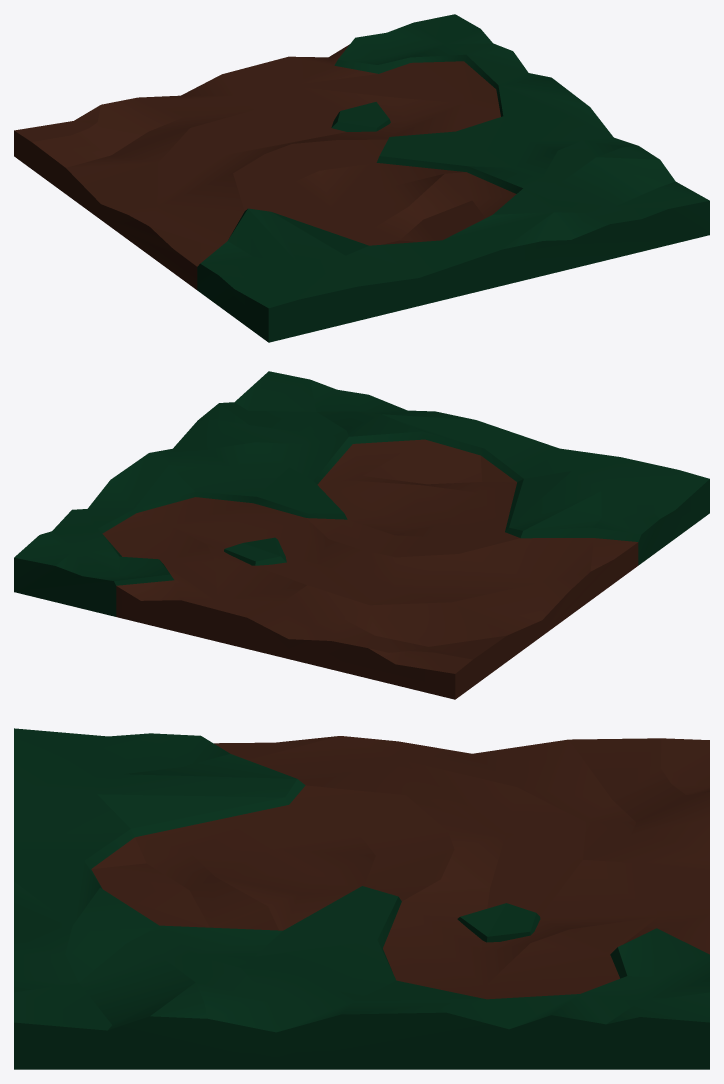
Rendered from Ground_Corner_Internal_RB.fbx.
The picture shows the model from 3 angles, top to bottom: view 1: azimuth 30°, elevation 25°; view 2: azimuth 150°, elevation 25°; view 3: azimuth 270°, elevation 25°; orthographic projection. The views are drawn at different scales.
Visible parts, largest first — view 1: Ground_Corner_Internal_RB; view 2: Ground_Corner_Internal_RB; view 3: Ground_Corner_Internal_RB.
Part boxes in pixels (bbox=[...]): Ground_Corner_Internal_RB: bbox=[14, 14, 709, 342]; Ground_Corner_Internal_RB: bbox=[14, 371, 709, 699]; Ground_Corner_Internal_RB: bbox=[14, 728, 709, 1069].
Size of the model in its own units: 147 by 13.54 by 147.
